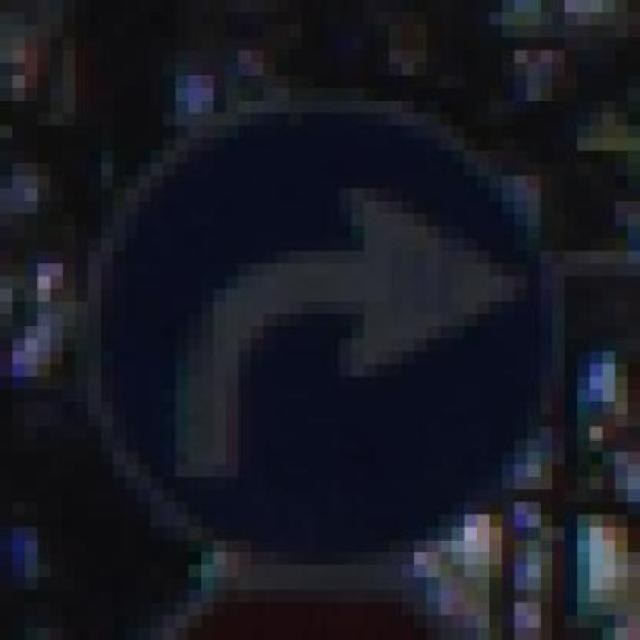Turn right ahead: (75, 62, 578, 566)
